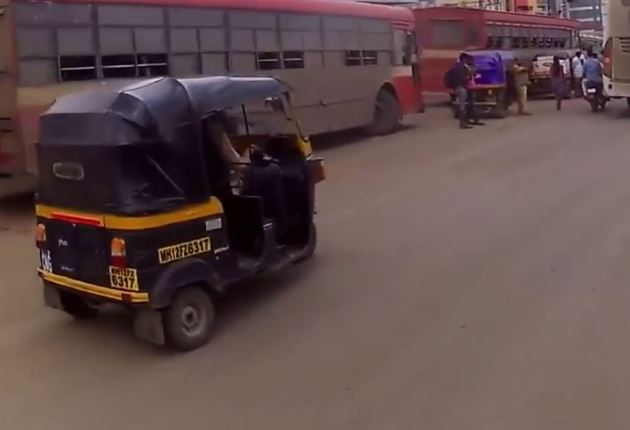autorickshaw: (28, 68, 341, 361), (472, 49, 514, 125), (530, 48, 576, 114)
